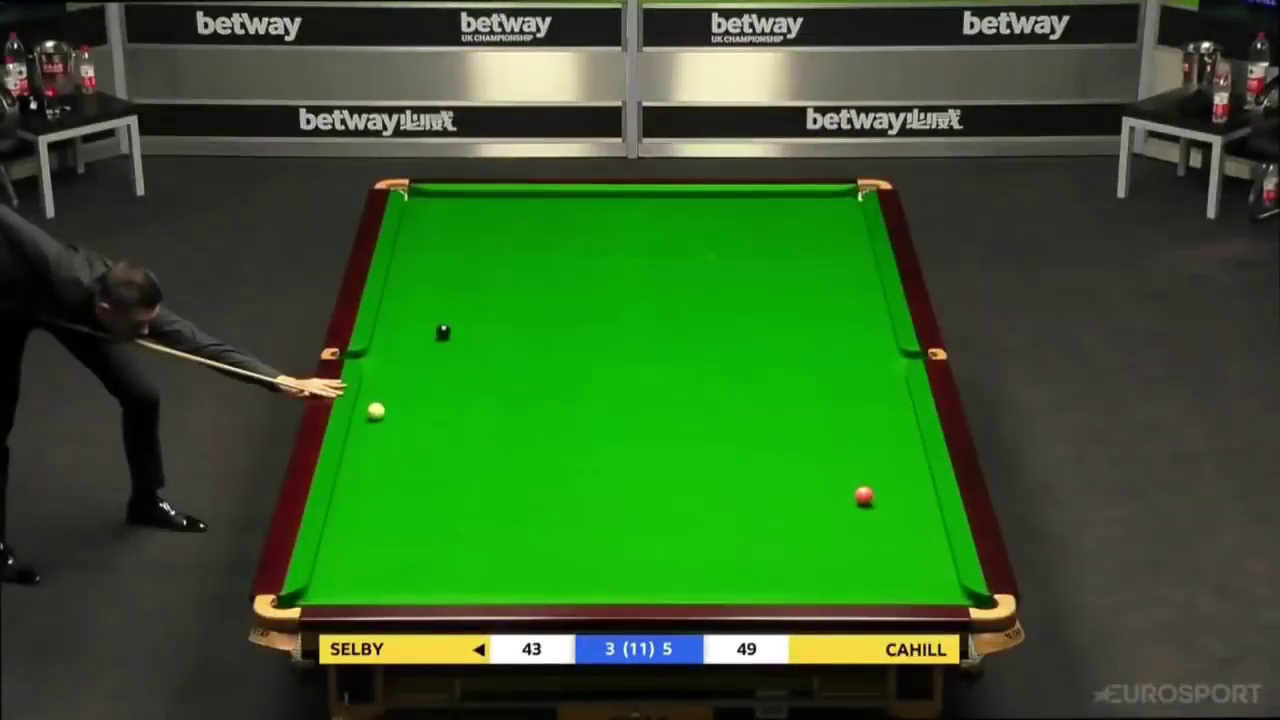ball: (851, 485, 875, 508), (367, 399, 387, 425), (432, 324, 451, 341)
